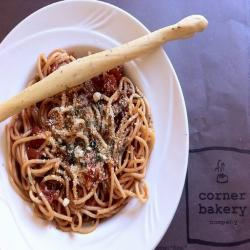bolonese_pasta: (11, 44, 162, 237)
bread: (9, 17, 217, 99)
